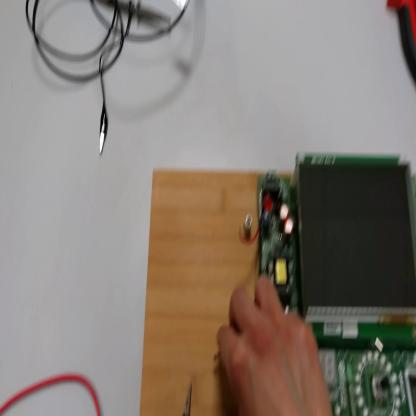hand: (217, 277, 332, 416)
low voltage board: (214, 149, 416, 416)
oscilloscope probe tip: (101, 1, 174, 26)
working area: (136, 170, 293, 416)
